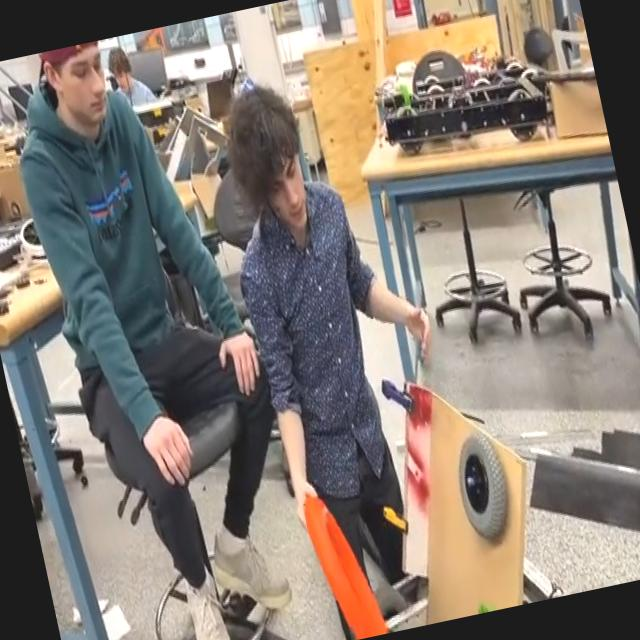note: (295, 477, 390, 640)
